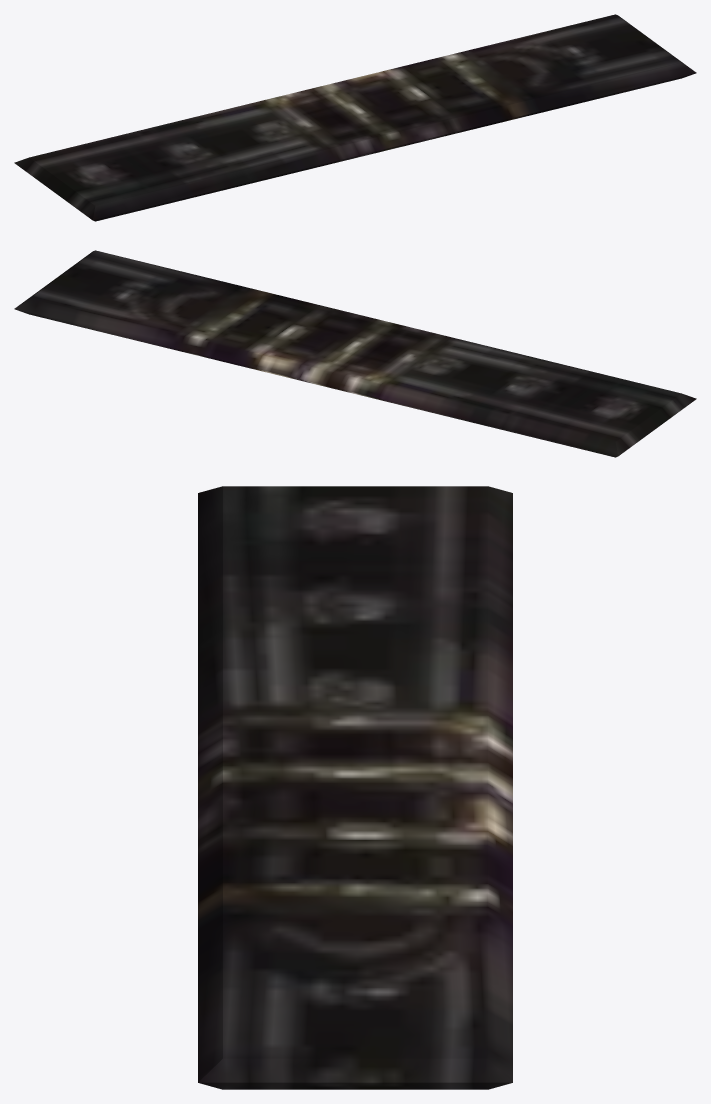
Rendered from KM_BELT_13.glb.
The picture shows the model from 3 angles, top to bottom: view 1: azimuth 30°, elevation 25°; view 2: azimuth 150°, elevation 25°; view 3: azimuth 270°, elevation 25°; orthographic projection. The views are drawn at different scales.
Visible parts, largest first — view 1: KM_BELT_13; view 2: KM_BELT_13; view 3: KM_BELT_13.
Boxes of the visible parts, x1,y1,x2,y2 form: KM_BELT_13: (14, 14, 696, 221); KM_BELT_13: (14, 250, 696, 457); KM_BELT_13: (198, 486, 512, 1089).
Bounding box in the file's own units: 0.372 × 0.0092 × 0.084.
Materials: 1 (1 with a texture image).
